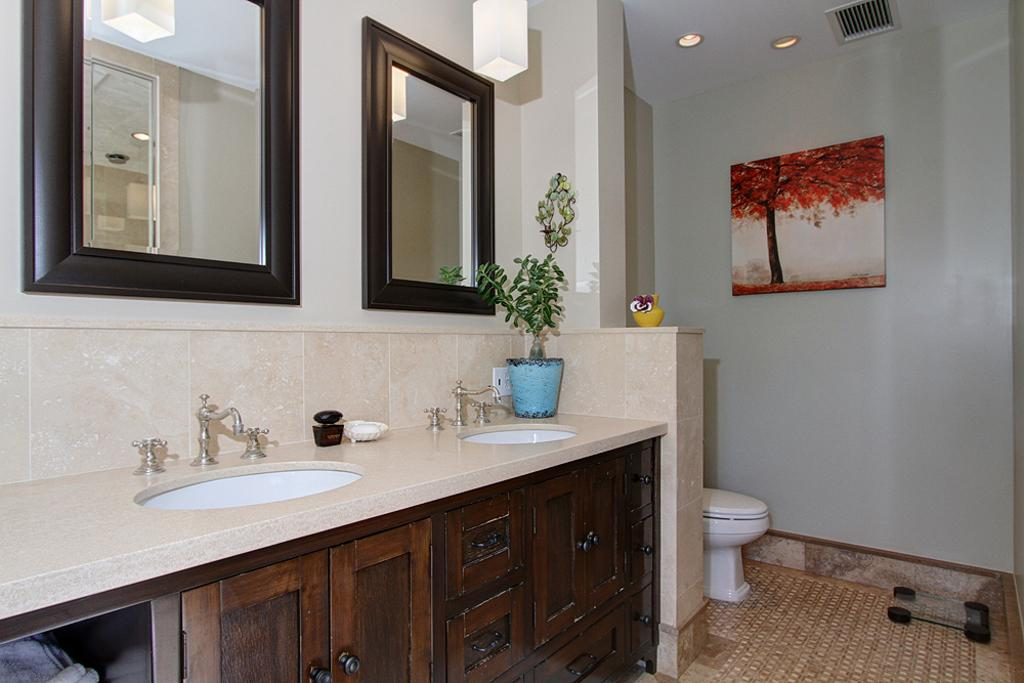cabinet_door: (332, 548, 426, 683), (186, 605, 324, 683), (530, 486, 580, 624), (581, 472, 627, 588), (453, 514, 515, 569), (454, 608, 522, 658), (627, 456, 652, 573), (530, 653, 604, 682), (634, 594, 652, 654)
handle: (470, 632, 506, 650), (310, 660, 332, 683), (474, 540, 506, 555), (565, 654, 591, 670), (343, 650, 359, 674), (574, 538, 588, 562), (588, 530, 601, 546)
